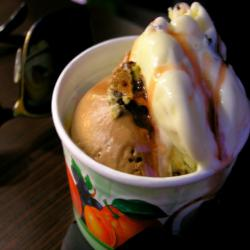icecream: (140, 15, 246, 160), (72, 70, 164, 179)
